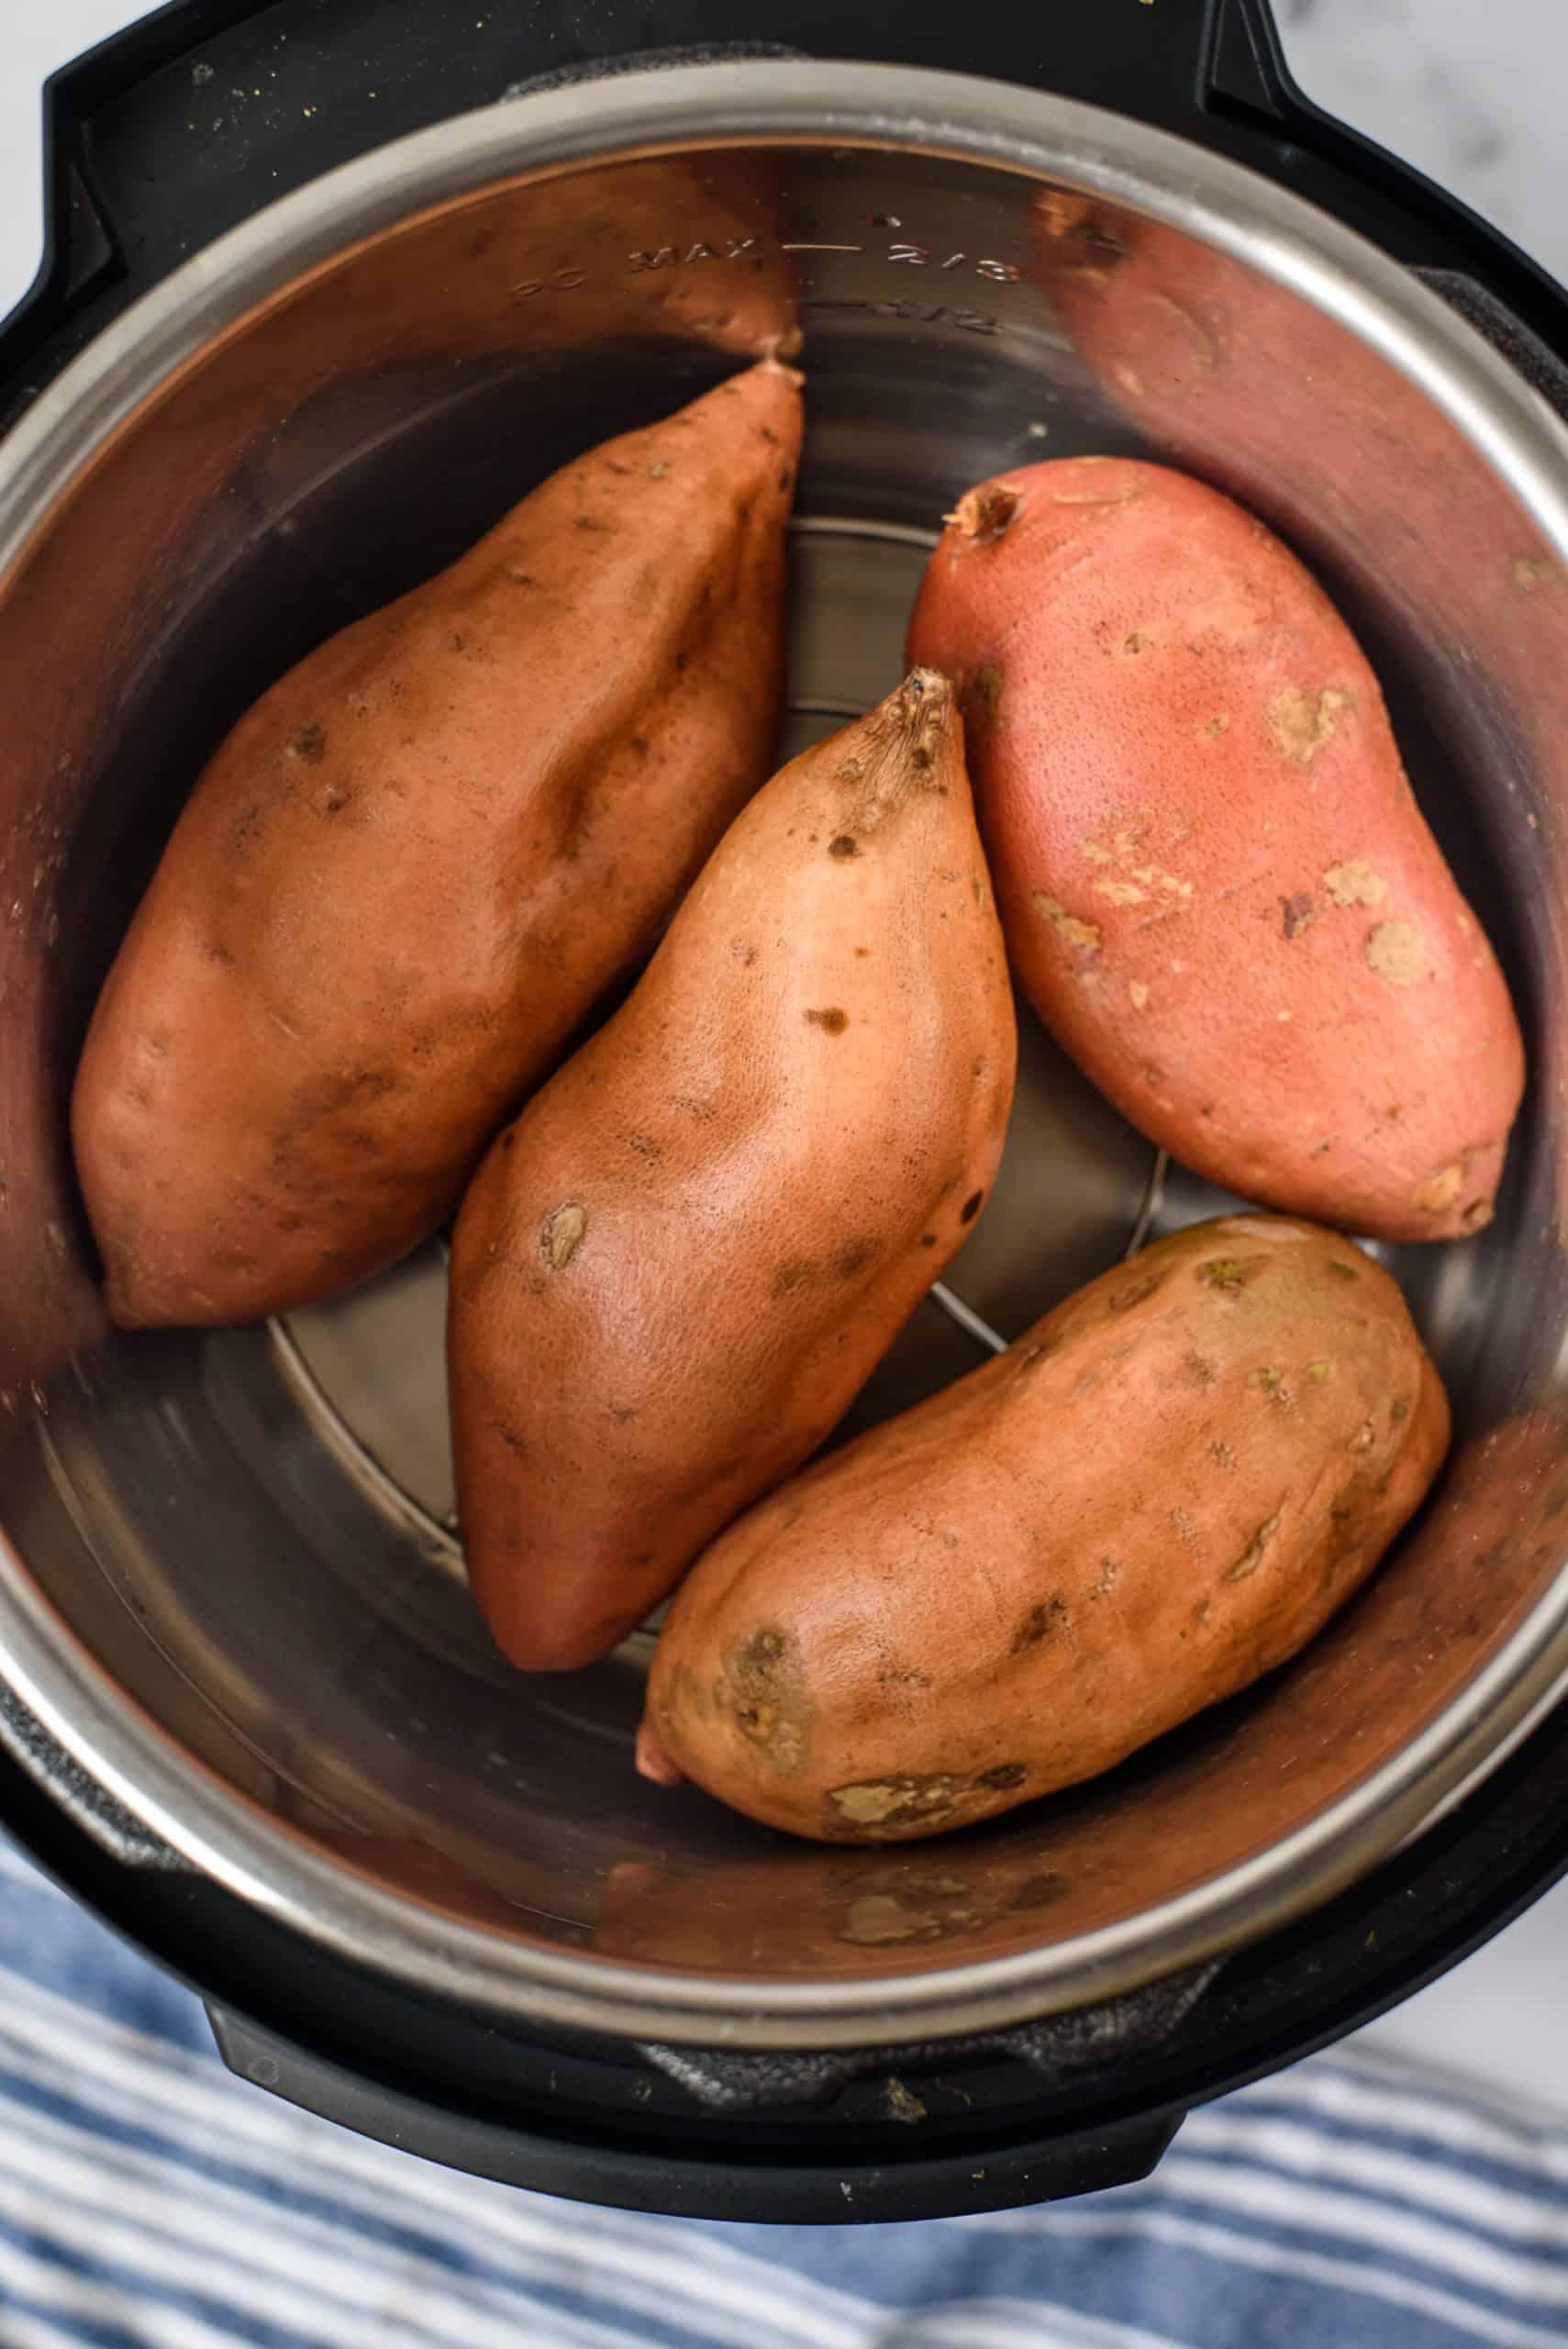sweetpotato: (66, 347, 807, 1332), (443, 662, 1018, 1675), (632, 1208, 1452, 1847), (901, 450, 1528, 1243)
